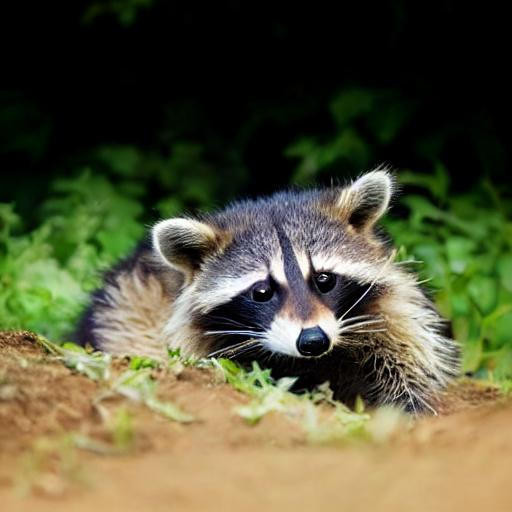raccoon: (72, 160, 469, 416)
